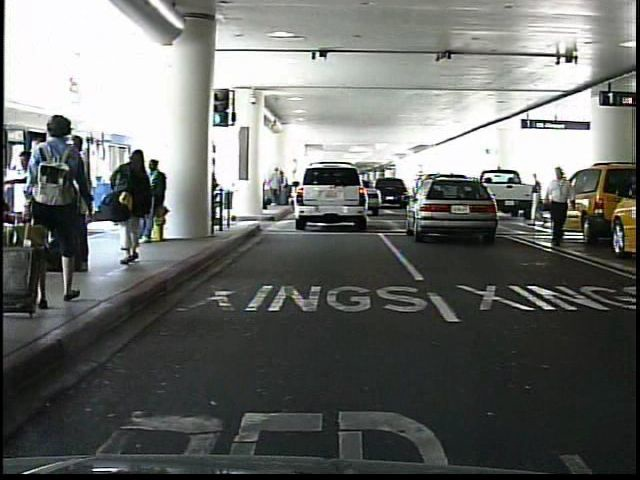person: (36, 109, 93, 320), (114, 141, 162, 272), (546, 163, 576, 251), (143, 158, 171, 243), (531, 171, 549, 226), (553, 170, 563, 209)
